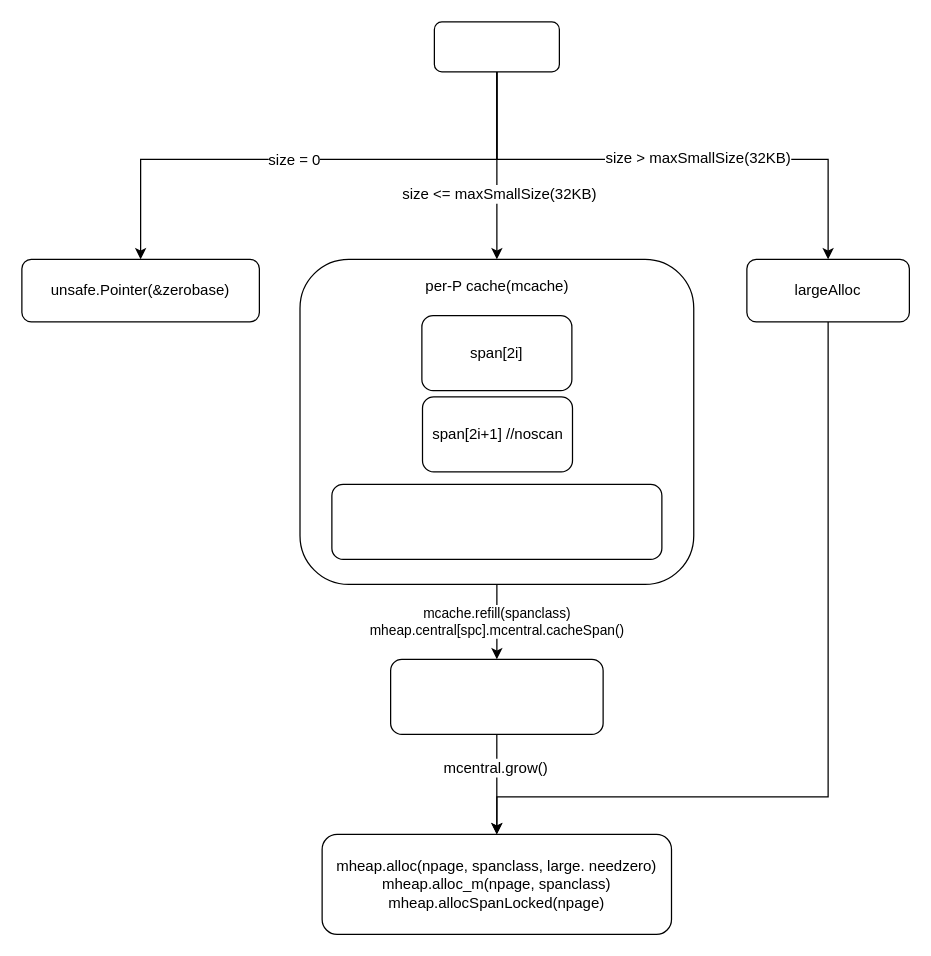
The diagram is 931 pixels wide and 956 high, and some of its shapes have lost their labels. The centre of each missing label's shape, as x and y in pixels:
"mallocgc" goes at (x=496, y=46).
"mheap.mcentral[134]" goes at (x=496, y=696).
"tinySpan [noscan && size < maxTinySize(16byte)]" goes at (x=496, y=521).
